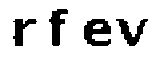e: (81, 17, 110, 51)
f: (48, 6, 73, 53)
r: (15, 16, 42, 48)
v: (115, 16, 150, 48)
